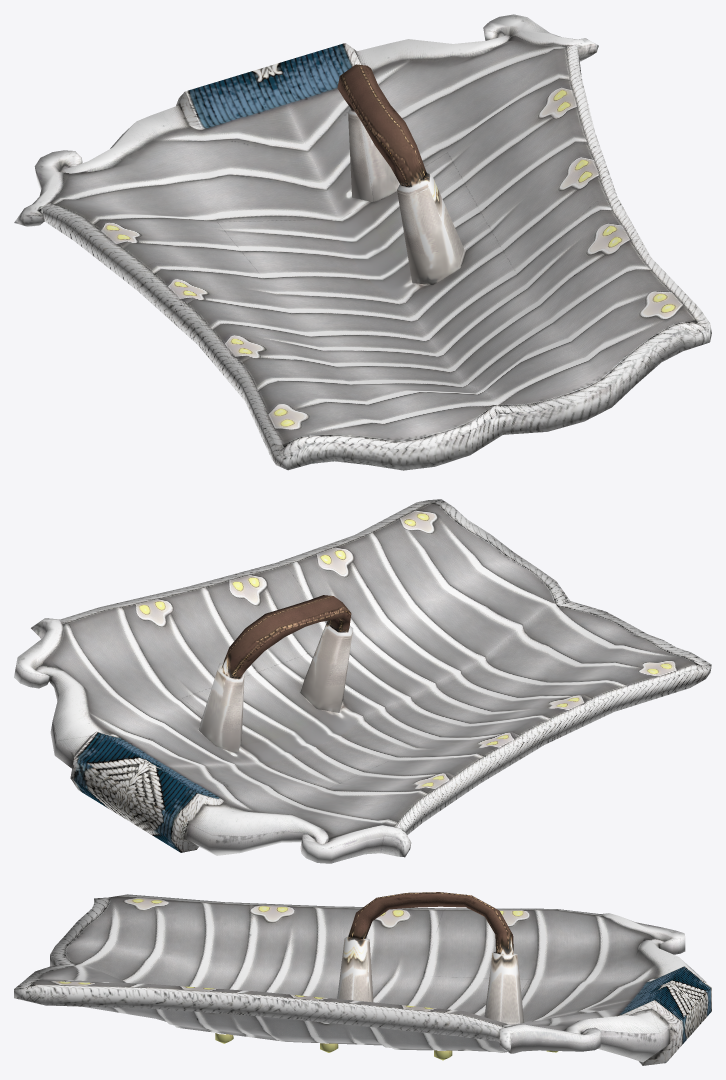
File: s_steelshield_t2.glb
3 views of the same model, one above another, from view 1: azimuth 30°, elevation 25°; view 2: azimuth 150°, elevation 25°; view 3: azimuth 270°, elevation 25° (orthographic). The views are drawn at different scales.
Parts seen in each view (by area): view 1: Shield:2; view 2: Shield:2; view 3: Shield:2.
Boxes of the visible parts, <box> form: Shield:2: <box>14,14,711,470</box>; Shield:2: <box>14,499,711,863</box>; Shield:2: <box>14,892,711,1065</box>.
Bounding box in the file's own units: 36.49 × 12.96 × 47.06.
1 material, 1 textured.
